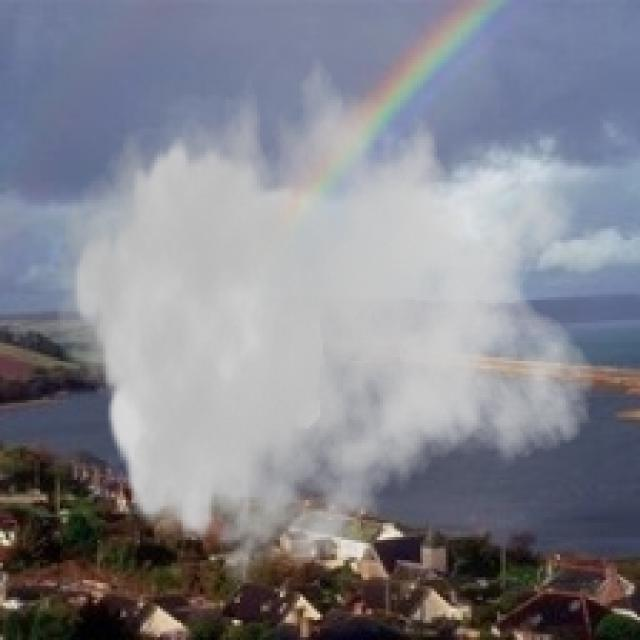smoke: (54, 32, 597, 594)
